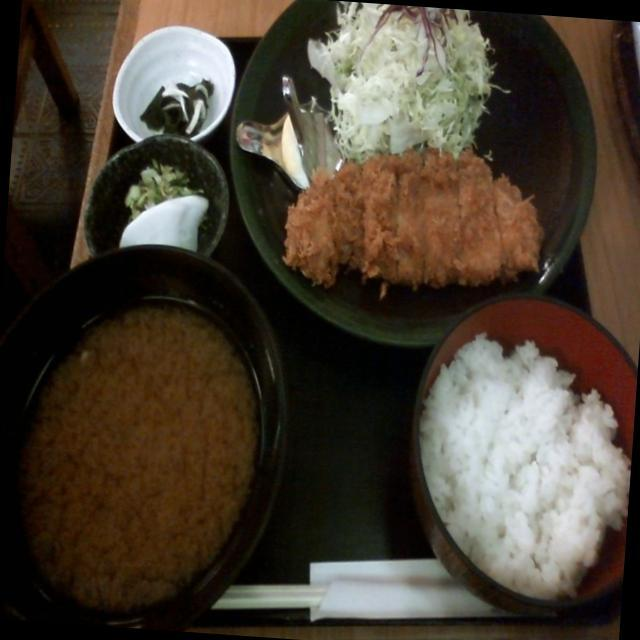Rice: (409, 334, 639, 614)
